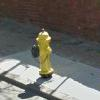Hydrant: (25, 23, 65, 84)
